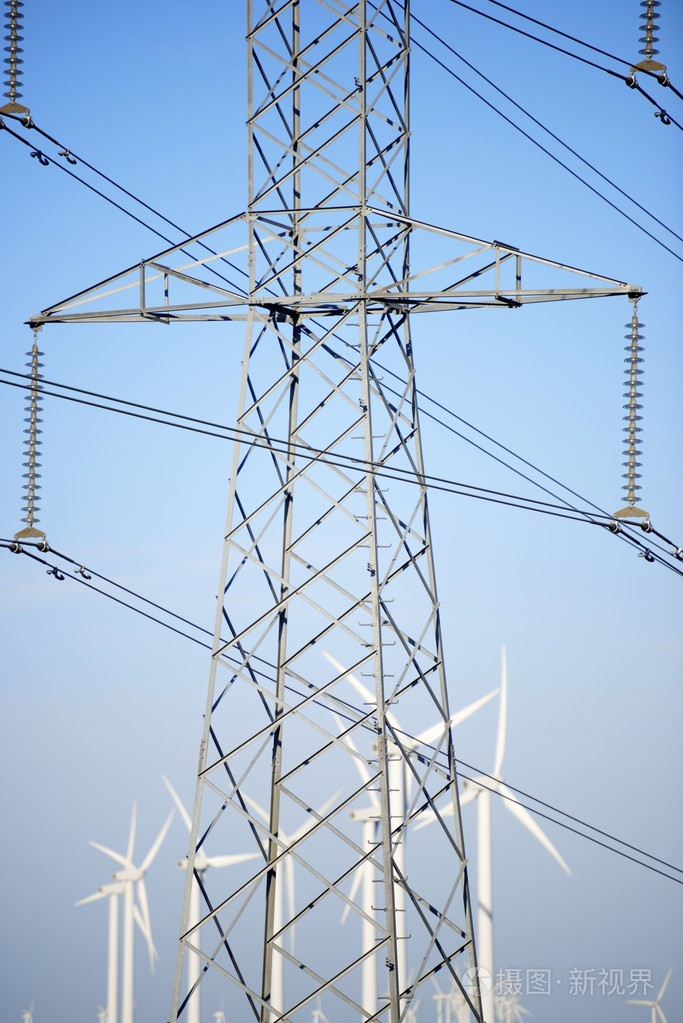insulator: (19, 347, 44, 524), (622, 320, 644, 505), (1, 2, 28, 99), (635, 1, 662, 55)
